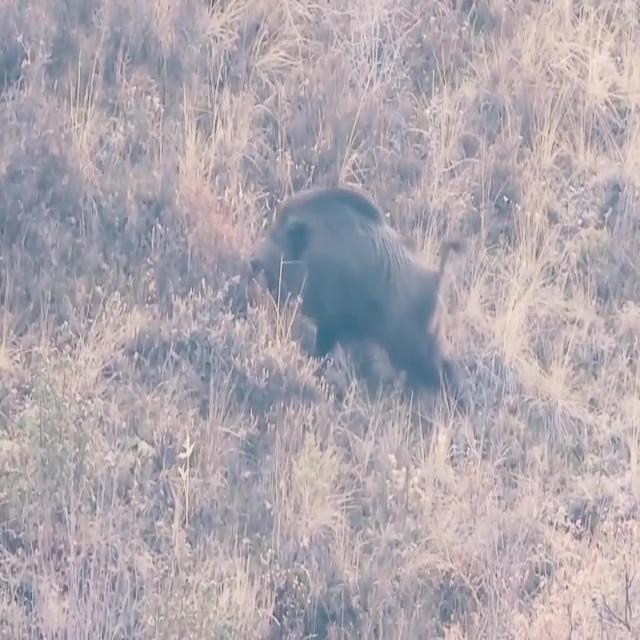pig: (232, 144, 456, 373)
